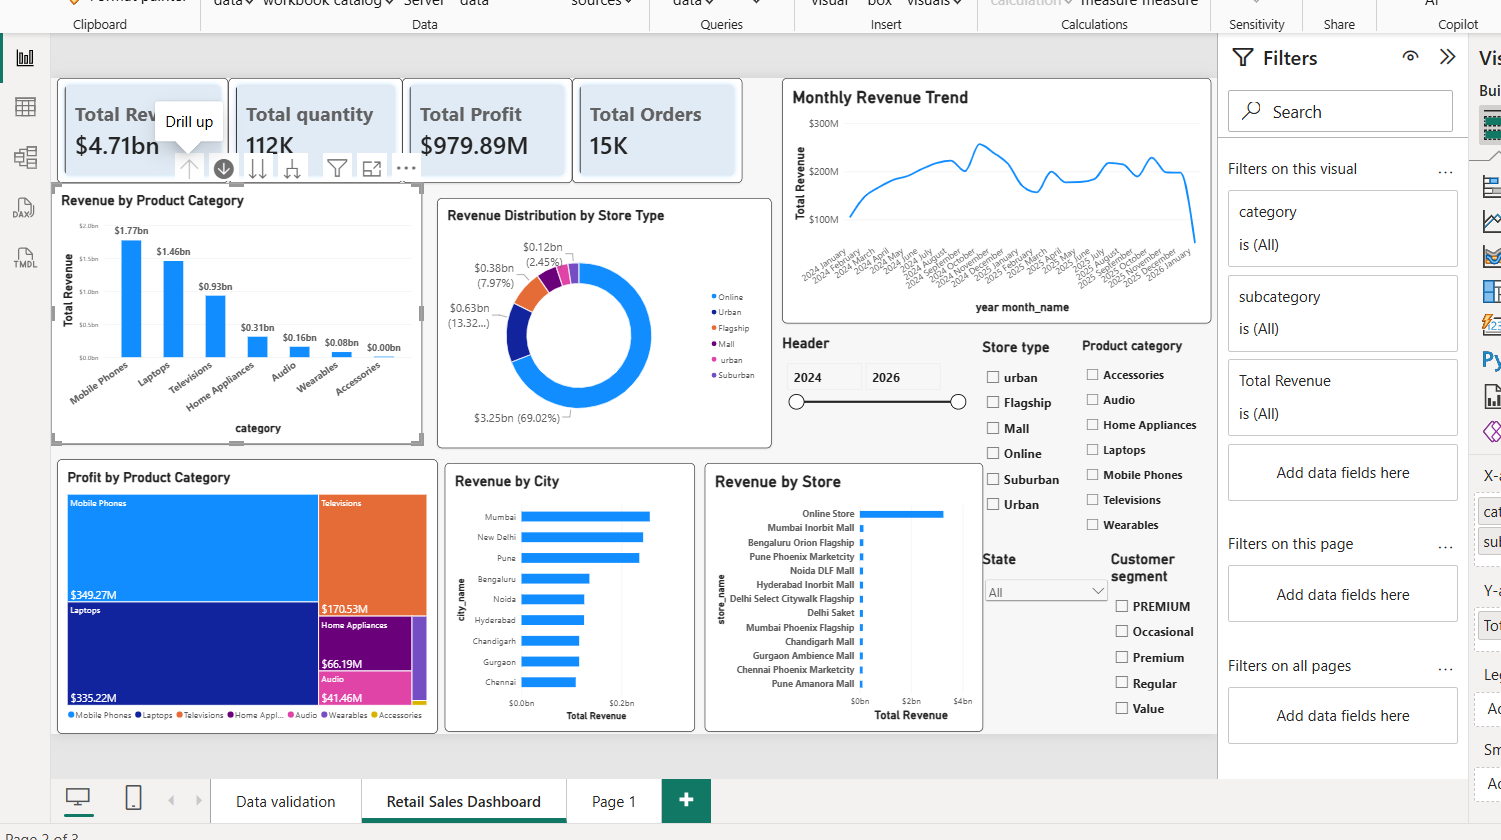

This screenshot's page, from the dashboard's own definition file:
{"tool":"powerbi","page":{"name":"Retail Sales Dashboard","canvas":[1920,1080],"ordinal":1},"visuals":[{"type":"cardVisual","fields":{"Data":["Fact Sales.Total Revenue"]},"box":[10.3,0,282,172.9],"z":0},{"type":"cardVisual","fields":{"Data":["Fact Sales.Total Profit"]},"box":[578.4,0,279.9,172.9],"z":1000},{"type":"cardVisual","fields":{"Data":["Fact Sales.Total Orders"]},"box":[858.3,0,279.9,172.9],"z":2000},{"type":"cardVisual","fields":{"Data":["Fact Sales.Total quantity"]},"box":[292.3,0,286.1,172.9],"z":3000},{"type":"clusteredColumnChart","title":"Revenue by Product Category","fields":{"Category":["Dim Product.category","Dim Product.subcategory"],"Y":["Fact Sales.Total Revenue"]},"box":[0,172.9,611.3,430.2],"z":4000},{"type":"treemap","title":"Profit by Product Category","fields":{"Group":["Dim Product.category"],"Values":["Fact Sales.Total Profit"]},"box":[10.9,628,510.3,452.4],"z":5000},{"type":"clusteredBarChart","title":"Revenue by Store","fields":{"Category":["Dim Store.store_name"],"Y":["Fact Sales.Total Revenue"]},"box":[803.5,617.1,334.8,443.4],"z":6000},{"type":"lineChart","title":" Monthly Revenue Trend","fields":{"Category":["Dim Date.year","Dim Date.month_name"],"Y":["Fact Sales.Total Revenue"]},"box":[1203.4,0,705.8,347.5],"z":7000},{"type":"donutChart","title":"Revenue Distribution by Store Type","fields":{"Category":["Dim Store.store_type"],"Y":["Fact Sales.Total Revenue"]},"box":[636,198,550,412],"z":8000},{"type":"clusteredBarChart","title":"Revenue by City","fields":{"Category":["Dim City.city_name"],"Y":["Fact Sales.Total Revenue"]},"box":[521.2,618.9,282.3,443.4],"z":9000},{"type":"slicer","title":"Product category","fields":{"Values":["Dim Product.category"]},"box":[1695.7,347.5,212,111.1],"z":10000},{"type":"slicer","title":"Store type","fields":{"Values":["Dim Store.store_type"]},"box":[1532.8,347.5,148.2,111.1],"z":11000},{"type":"slicer","title":"Customer segment","fields":{"Values":["Dim Customer.customer_segment"]},"box":[1693.8,459.7,212,94.7],"z":12000},{"type":"slicer","title":"State","fields":{"Values":["Dim State.state_name"]},"box":[1532.8,459.7,148.2,94.7],"z":13000},{"type":"slicer","title":"Header","fields":{"Values":["Dim Date.year"]},"box":[1203.4,347.5,306,206],"z":14000},{"type":"tableEx","title":"Store Performance","fields":{"Values":["Dim Store.store_name","Fact Sales.Total Profit","Fact Sales.Total Revenue","SparklineData(Fact Sales.Total Revenue_[Dim Date.full_date])"]},"box":[1138.3,604.4,781.8,468.7],"z":14001}]}

Visuals, with their boxes on the page's 1920x1080 design canvas (x1, y1, x2, y2). These are canvas units, not pixel positions in the 1501x840 screenshot, which may show the page scaled, cropped or inside an application window:
cardVisual - Fact Sales.Total Revenue: select_region(10, 0, 292, 173)
cardVisual - Fact Sales.Total Profit: select_region(578, 0, 858, 173)
cardVisual - Fact Sales.Total Orders: select_region(858, 0, 1138, 173)
cardVisual - Fact Sales.Total quantity: select_region(292, 0, 578, 173)
"Revenue by Product Category" clusteredColumnChart: select_region(0, 173, 611, 603)
"Profit by Product Category" treemap: select_region(11, 628, 521, 1080)
"Revenue by Store" clusteredBarChart: select_region(804, 617, 1138, 1060)
" Monthly Revenue Trend" lineChart: select_region(1203, 0, 1909, 348)
"Revenue Distribution by Store Type" donutChart: select_region(636, 198, 1186, 610)
"Revenue by City" clusteredBarChart: select_region(521, 619, 804, 1062)
"Product category" slicer: select_region(1696, 348, 1908, 459)
"Store type" slicer: select_region(1533, 348, 1681, 459)
"Customer segment" slicer: select_region(1694, 460, 1906, 554)
"State" slicer: select_region(1533, 460, 1681, 554)
"Header" slicer: select_region(1203, 348, 1509, 554)
"Store Performance" tableEx: select_region(1138, 604, 1920, 1073)
